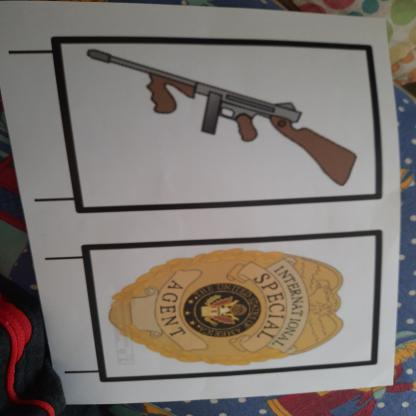Bootlegger: (71, 41, 373, 194)
G-man: (100, 244, 359, 372)
